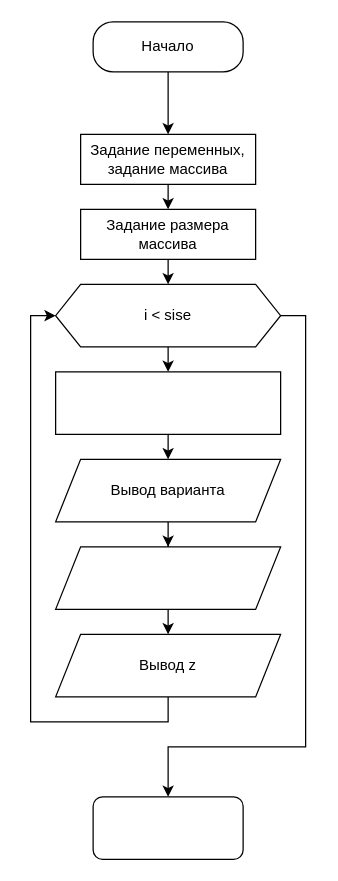
The diagram is 338 pixels wide and 881 high, and some of its shapes have lost their labels. Each missing label, with the centre of its shape:
"Вывод y" belongs at point (167, 577).
"Вычисление y, z" belongs at point (167, 402).
"Конец" belongs at point (167, 827).
